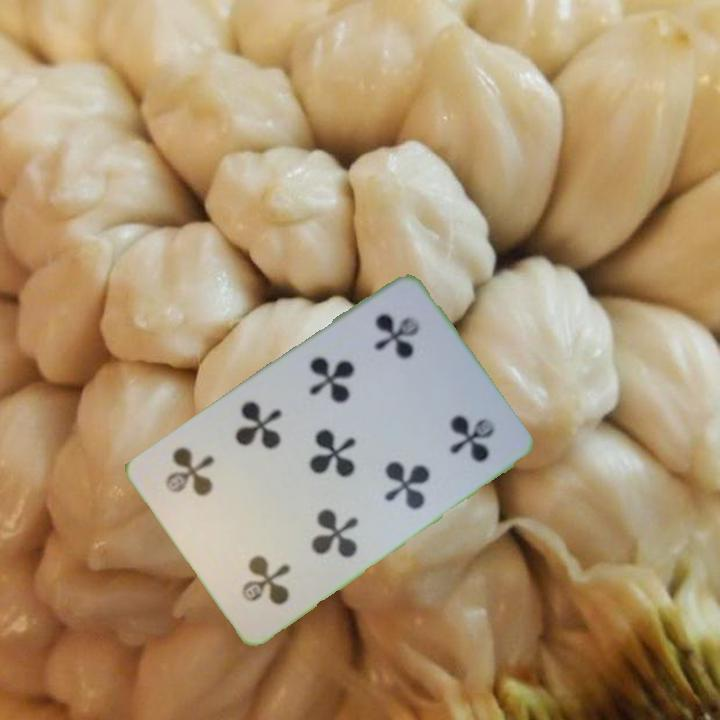c_9.png: (337, 287, 462, 416), (198, 500, 323, 629)
